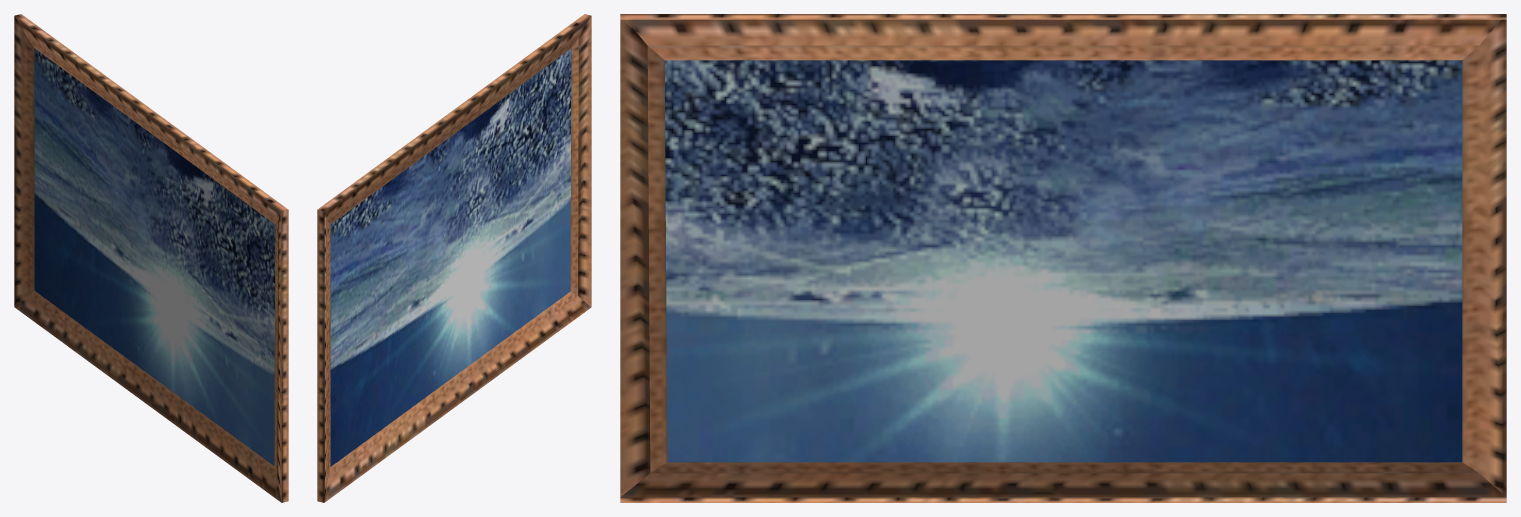
The model's file is frn_all_painting_planet_s01.fbx.
3 renders of one model, left to right at view 1: azimuth 30°, elevation 25°; view 2: azimuth 150°, elevation 25°; view 3: azimuth 270°, elevation 25°, orthographic. The views are drawn at different scales.
Visible parts, largest first — view 1: mesh_node; view 2: mesh_node; view 3: mesh_node.
Part boxes in pixels (x1,y1,x2,y2): mesh_node: [14, 14, 288, 502]; mesh_node: [317, 14, 591, 502]; mesh_node: [620, 14, 1506, 502].
Bounding box in the file's own units: 0.0522 × 2.1 × 3.49.
